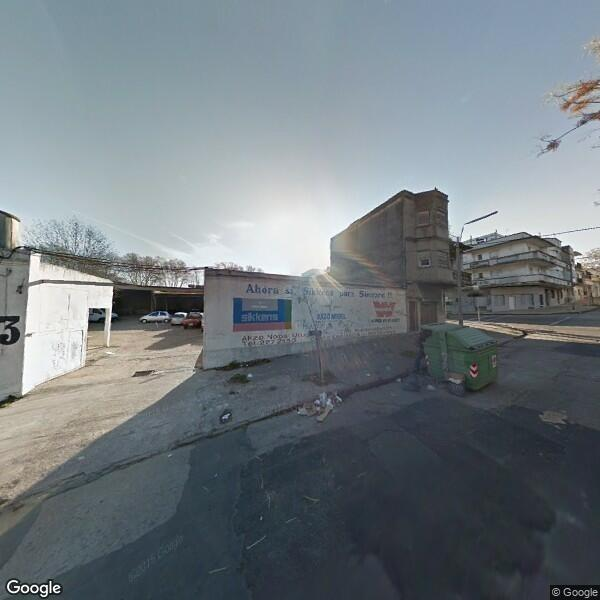Dechets: (296, 389, 344, 423), (400, 354, 429, 394), (446, 369, 465, 400), (228, 373, 255, 384)
Trash: (427, 324, 499, 392)
